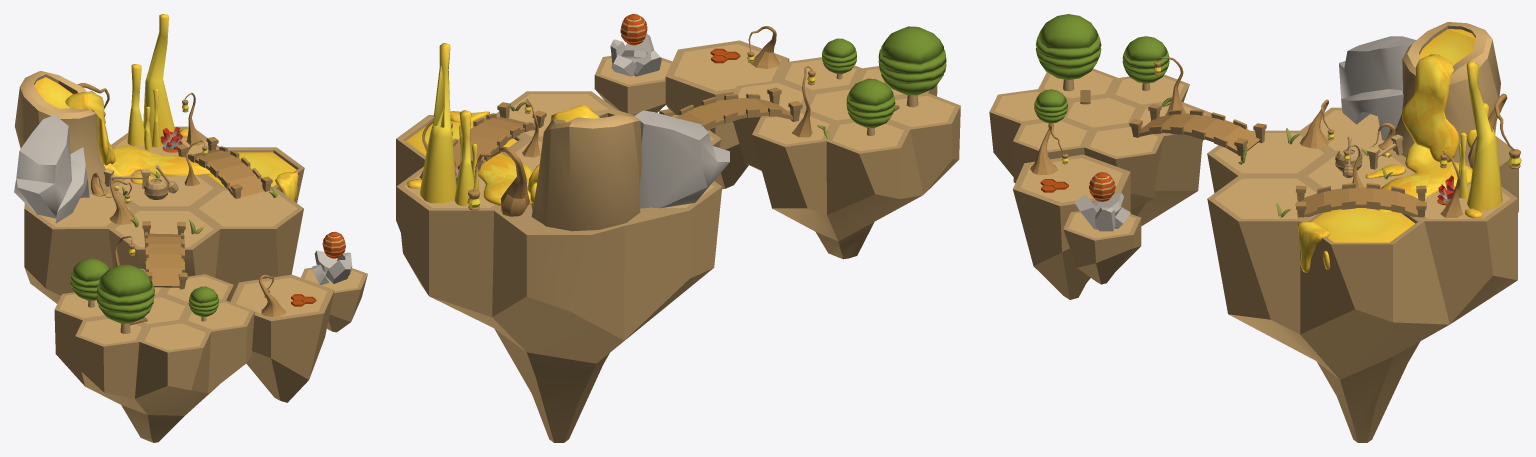
Rendered from HoneyIsland.fbx.
The picture shows the model from 3 angles, left to right: view 1: azimuth 30°, elevation 25°; view 2: azimuth 150°, elevation 25°; view 3: azimuth 270°, elevation 25°; orthographic projection. The views are drawn at different scales.
Visible parts, largest first — view 1: IslandBig, IslandMid, IslandSmall, Cave, Volcano, Honey, Stalactites, Tree_001, Bridge, Bridge_001, IslandSmall1, Tree (+9 smaller); view 2: IslandBig, IslandMid, Volcano, Cave, IslandSmall, Stalactites, Tree_001, IslandSmall1, Bridge_001, Honey, Bridge, Tree (+7 smaller); view 3: IslandBig, IslandMid, Honey, IslandSmall, Volcano, Cave, Stalactites, IslandSmall1, Tree_001, Bridge_001, Bridge, Honey_pond (+9 smaller).
Boxes of the visible parts, x1,y1,x2,y2 form: IslandBig: (24, 126, 304, 303); IslandMid: (54, 268, 254, 442); IslandSmall: (230, 274, 334, 402); Cave: (14, 115, 89, 223); Volcano: (14, 71, 111, 194); Honey: (65, 91, 298, 200); Stalactites: (127, 14, 174, 150); Tree_001: (96, 264, 154, 333); Bridge: (176, 137, 272, 198); Bridge_001: (142, 221, 187, 289); IslandSmall1: (301, 267, 367, 332); Tree: (70, 258, 109, 307); IslandBig: (396, 91, 722, 442); IslandMid: (733, 57, 960, 259); Volcano: (531, 109, 641, 231); Cave: (634, 110, 729, 208); IslandSmall: (665, 40, 789, 189); Stalactites: (420, 43, 478, 205); Tree_001: (878, 26, 946, 107); IslandSmall1: (594, 55, 672, 115); Bridge_001: (659, 87, 802, 130); Honey: (407, 105, 599, 205); Bridge: (453, 102, 546, 171); Tree: (846, 78, 895, 135); IslandBig: (1207, 107, 1518, 442); IslandMid: (989, 68, 1211, 226); Honey: (1298, 54, 1482, 272); IslandSmall: (1013, 154, 1130, 299); Volcano: (1392, 22, 1500, 163); Cave: (1339, 36, 1415, 140); Stalactites: (1459, 61, 1502, 210); IslandSmall1: (1063, 211, 1141, 284); Tree_001: (1035, 14, 1101, 91); Bridge_001: (1129, 104, 1266, 156); Bridge: (1295, 183, 1426, 217); Honey_pond: (1311, 208, 1415, 242).
Size of the model in its own units: 698 by 714 by 854.
